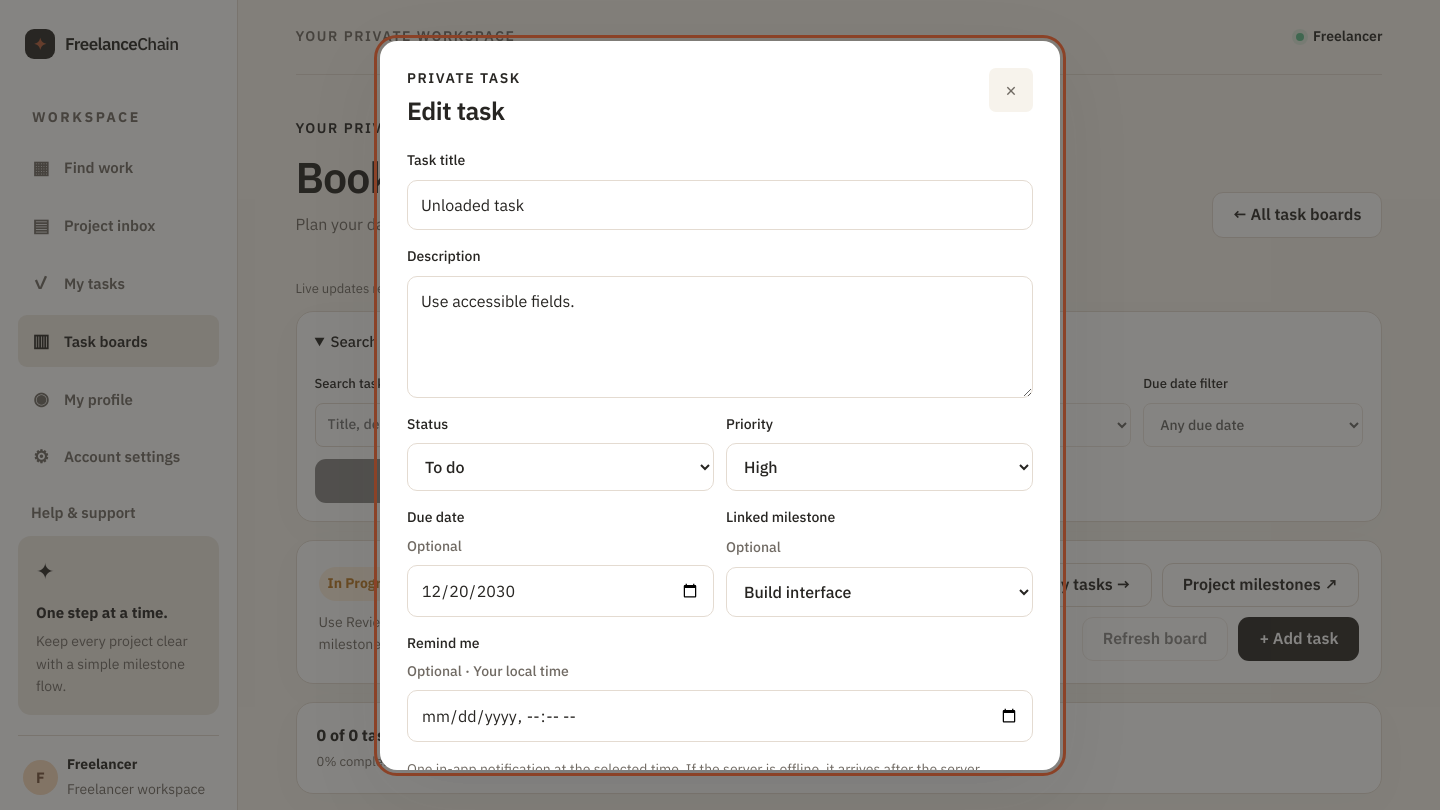
a deep link opens an unloaded task with history and keeps a failed reminder edit
Expected: the field labelled "Task title" holds "Unloaded task", [407, 180, 1033, 230]
Type "2035-12-01T10:30" into the field labelled "Remind me Optional · Your local time".
click(720, 716); type("2035-12-01T10:30")  # box [407, 690, 1033, 742]
(page scrolled)
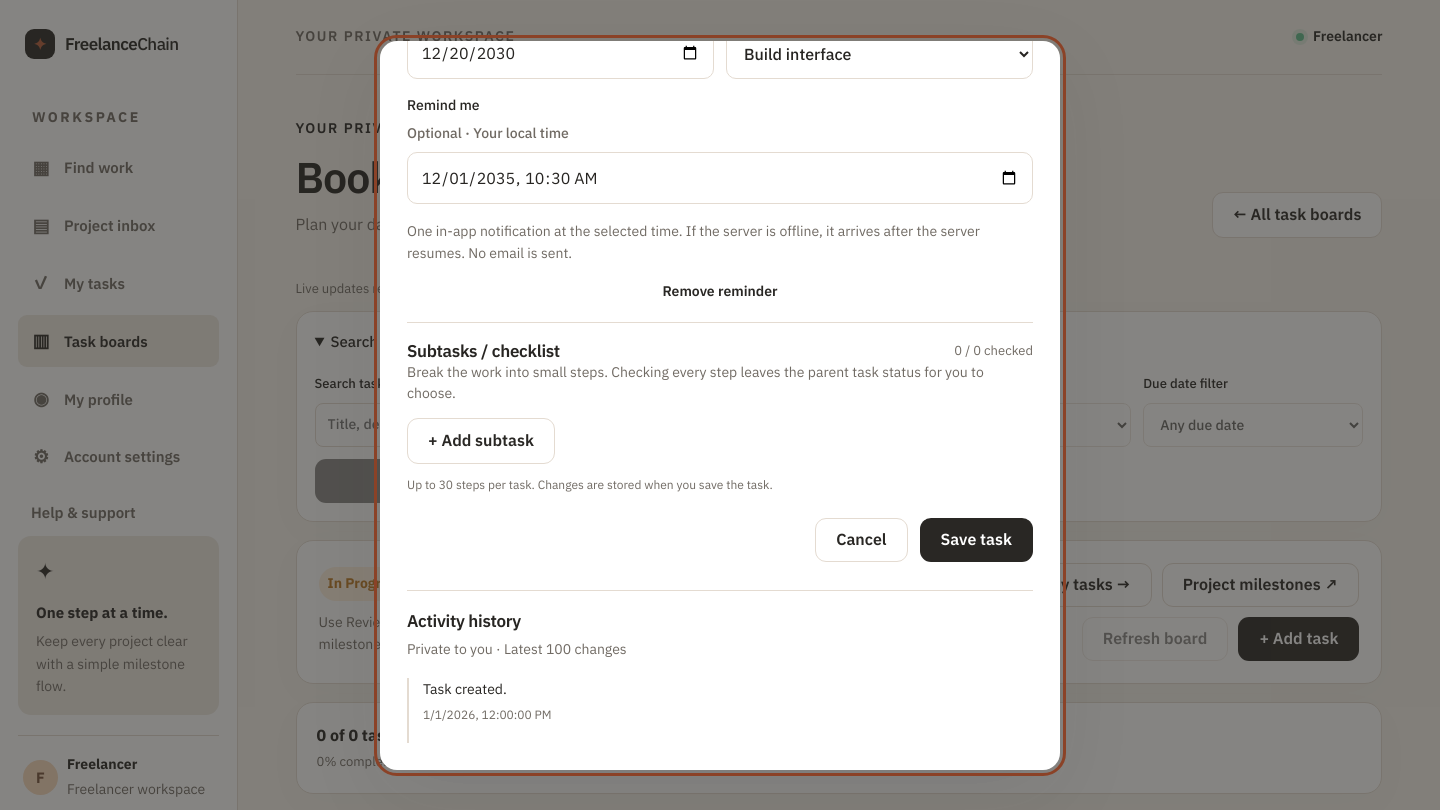
Click the button "Save task".
click(976, 540)  # box [920, 518, 1033, 562]
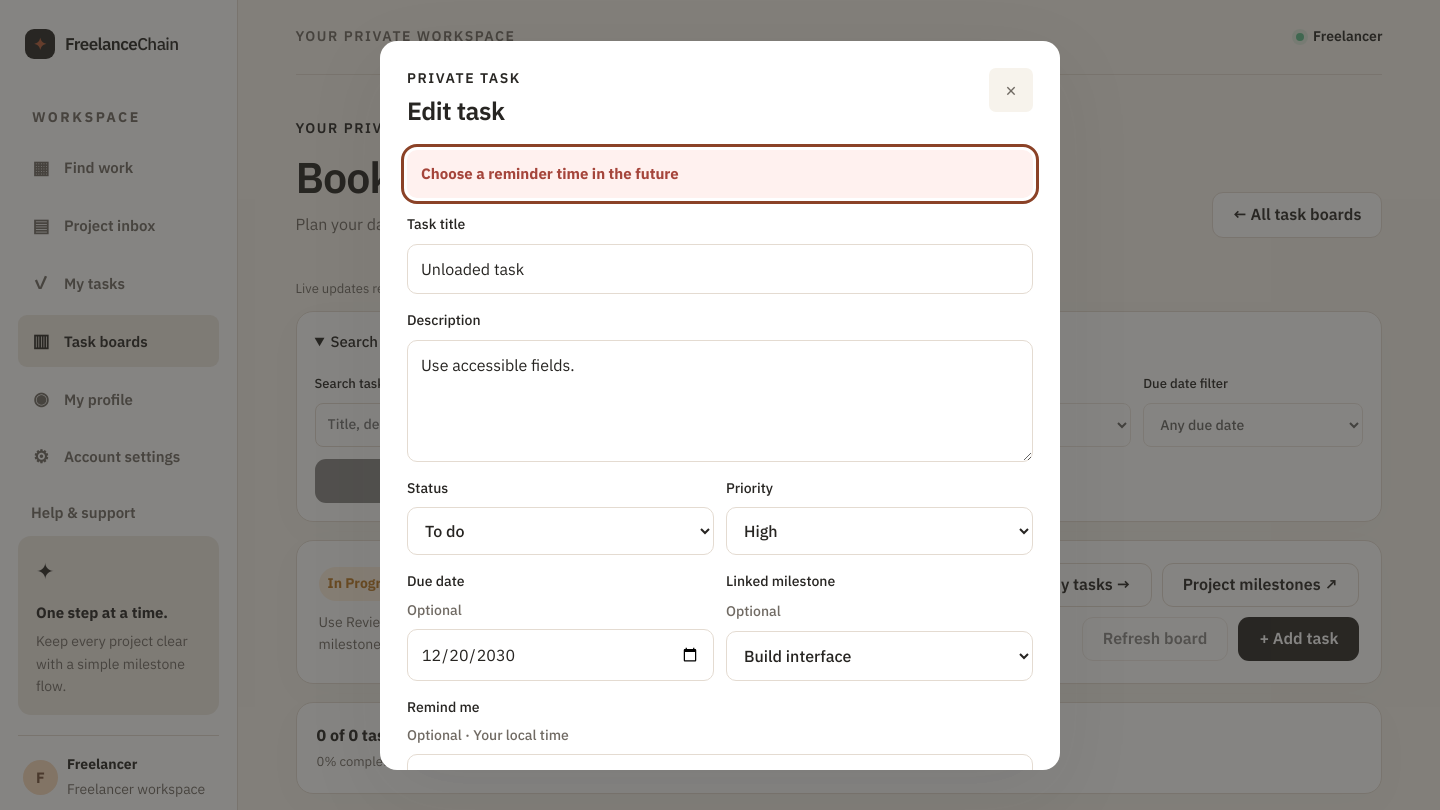
Result: the message "Choose a reminder time in the future" is shown at [407, 150, 1033, 198]
